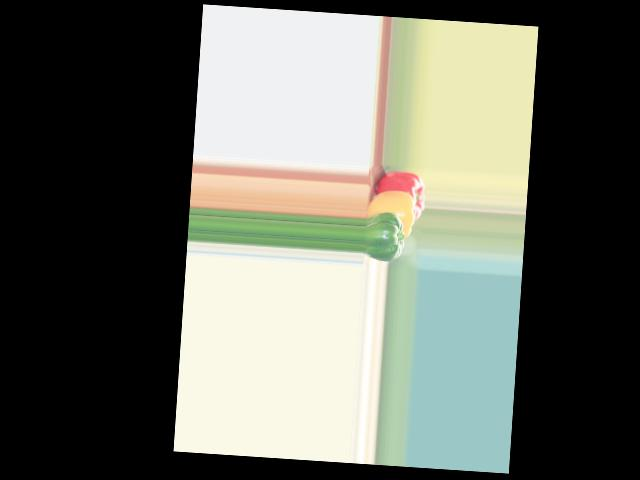bell_pepper: (368, 170, 426, 220)
